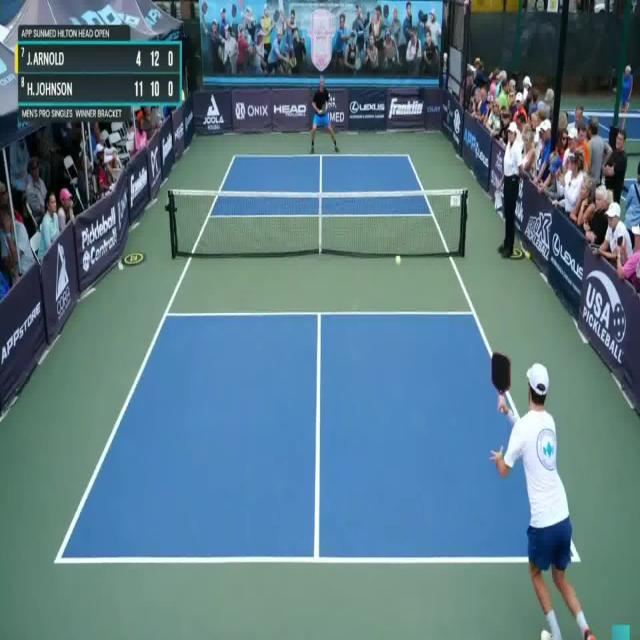ball: (395, 254, 402, 267)
